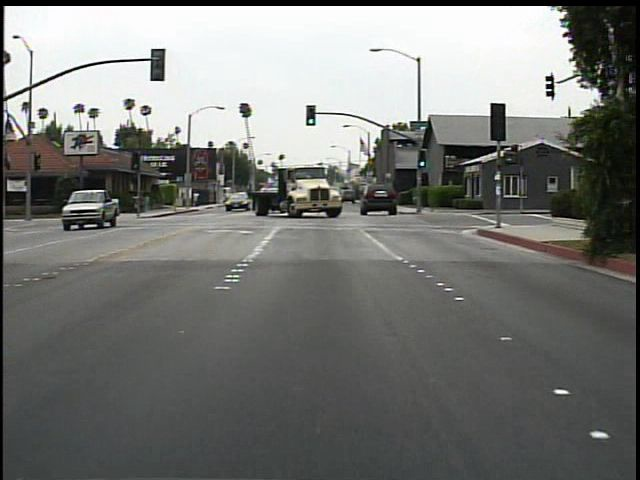person: (192, 187, 204, 209)
